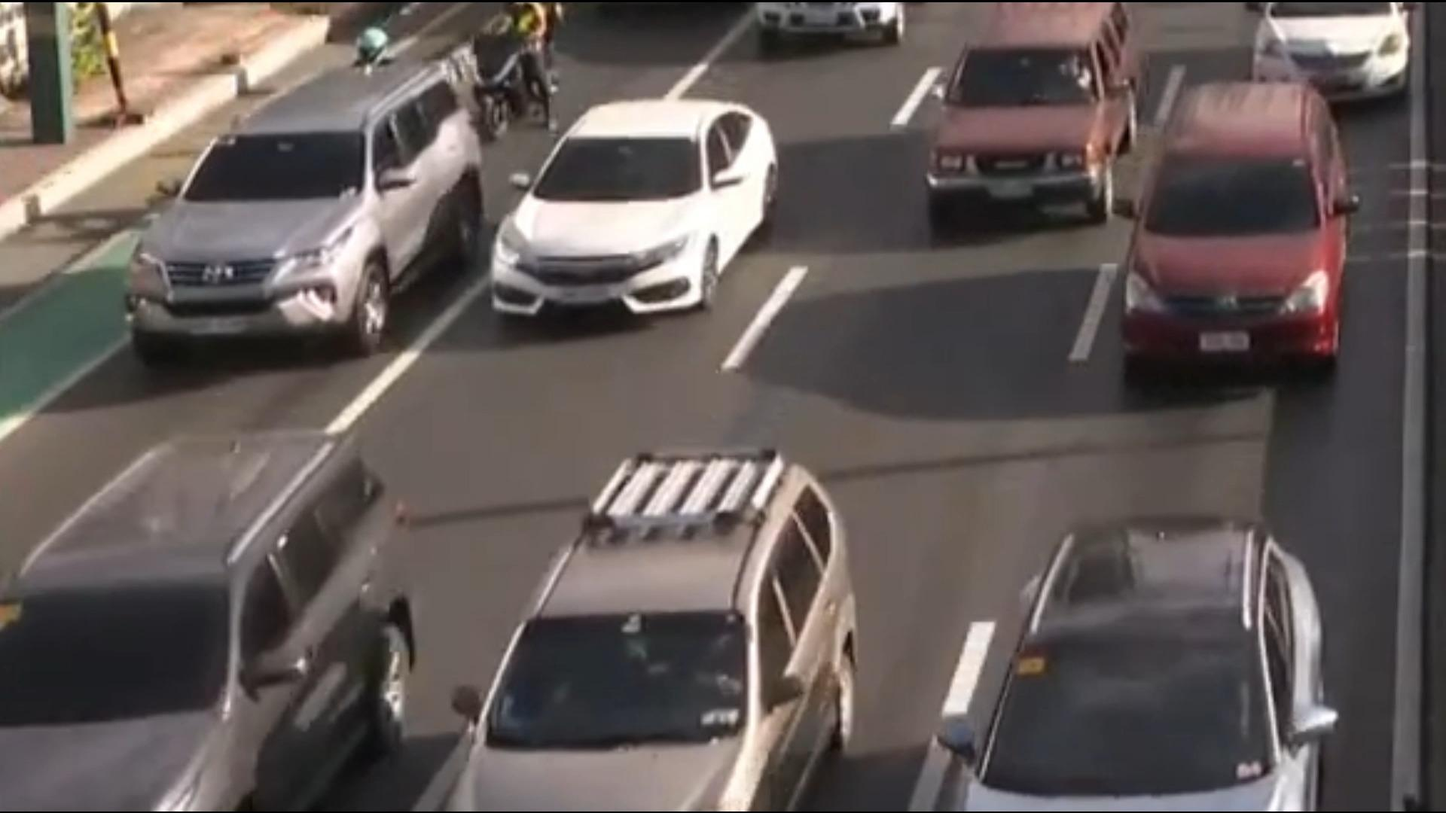Motorcycle: (467, 0, 567, 132)
SUV: (0, 435, 409, 813), (463, 459, 859, 813), (940, 512, 1329, 813), (149, 62, 484, 358), (1120, 85, 1335, 376), (924, 0, 1137, 226)
Sedan: (493, 88, 778, 322), (1237, 0, 1412, 104)
